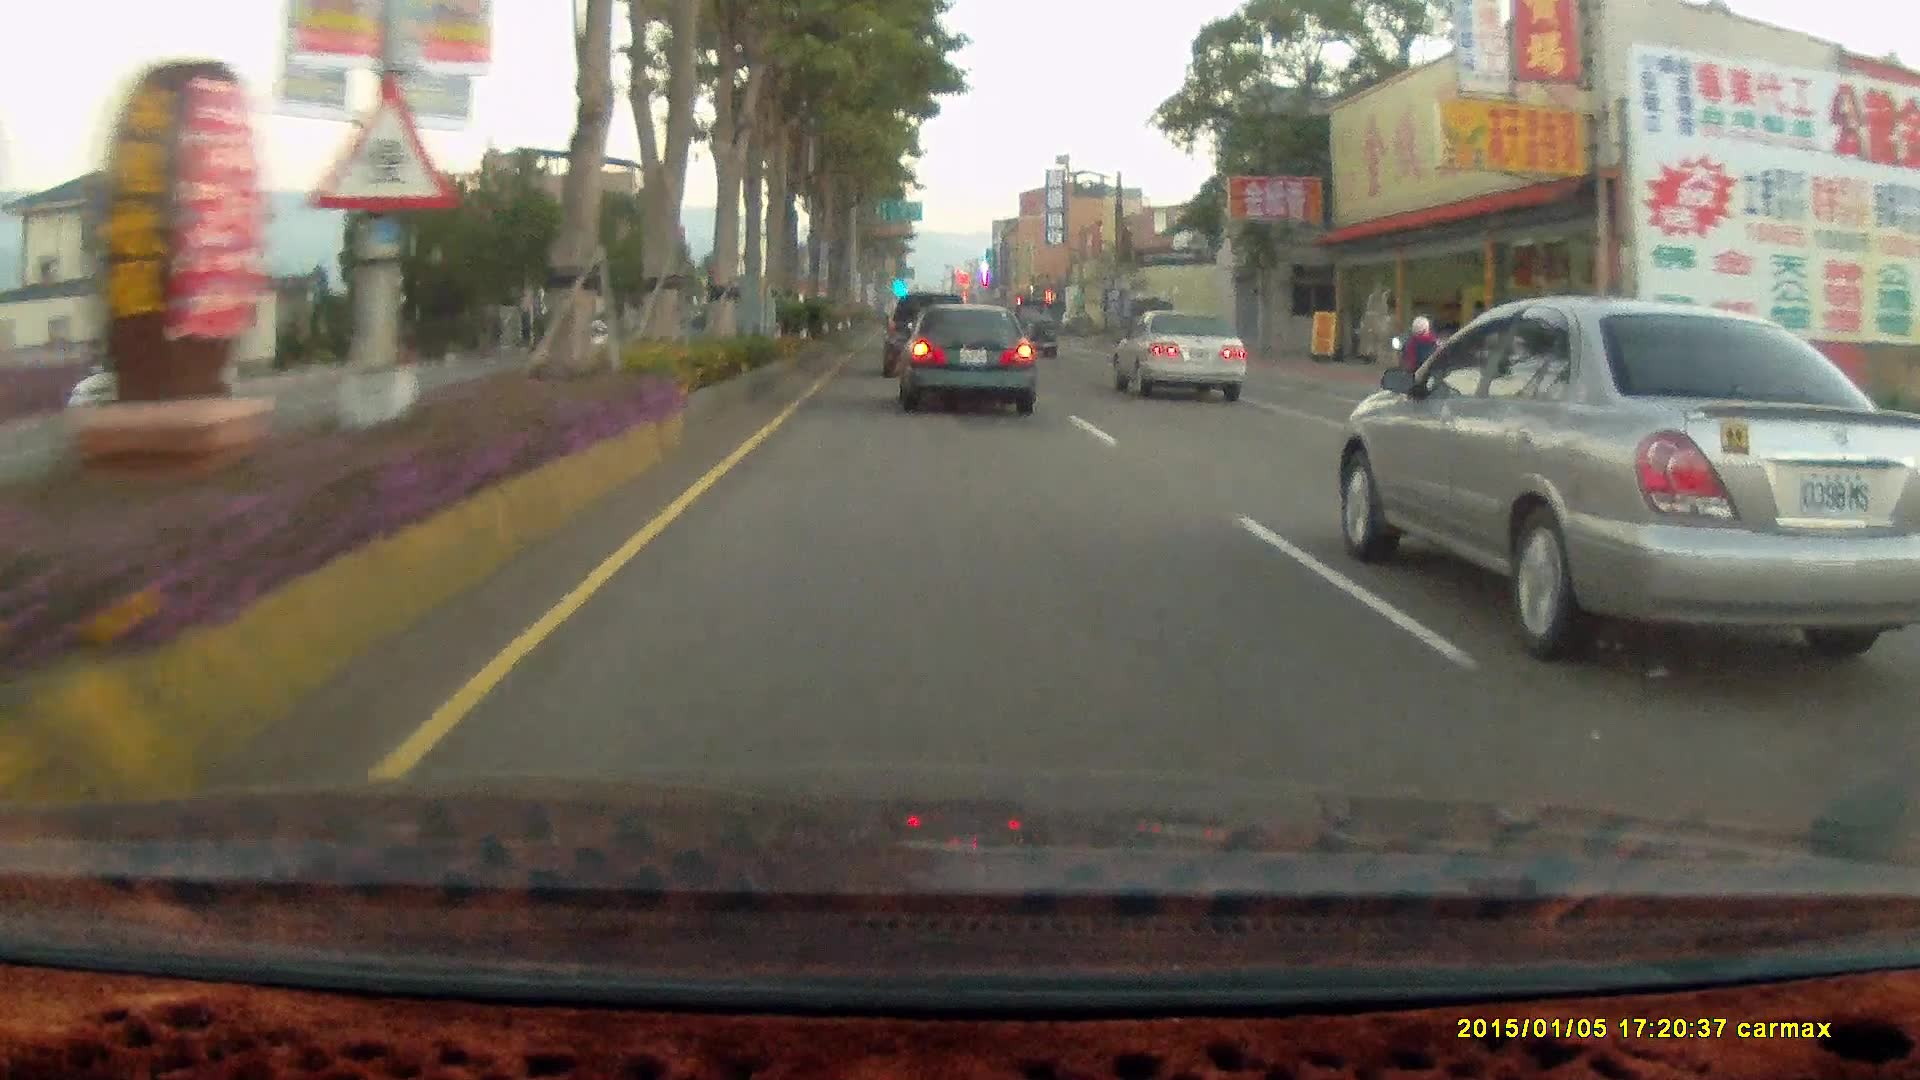rider: (1387, 308, 1452, 431), (1393, 313, 1450, 422)
vehicle: (1342, 289, 1920, 638), (896, 303, 1041, 418), (894, 302, 1036, 414), (43, 332, 233, 413), (67, 337, 241, 424), (1108, 310, 1245, 402), (1122, 302, 1255, 392), (883, 291, 973, 379), (880, 293, 963, 378), (1005, 296, 1058, 360)
